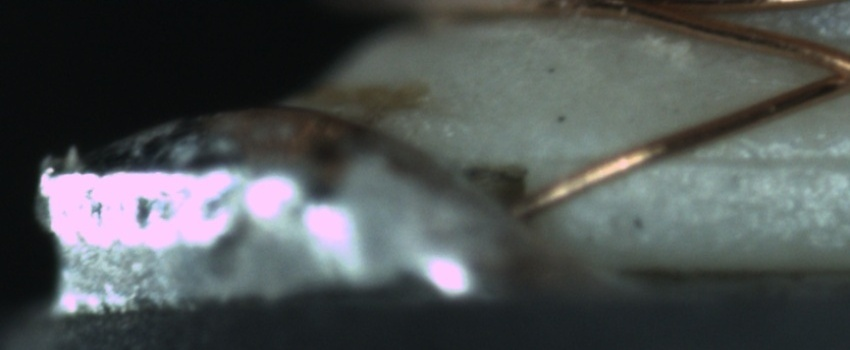CL: (798, 42, 850, 100)
DL: (605, 126, 849, 191)
